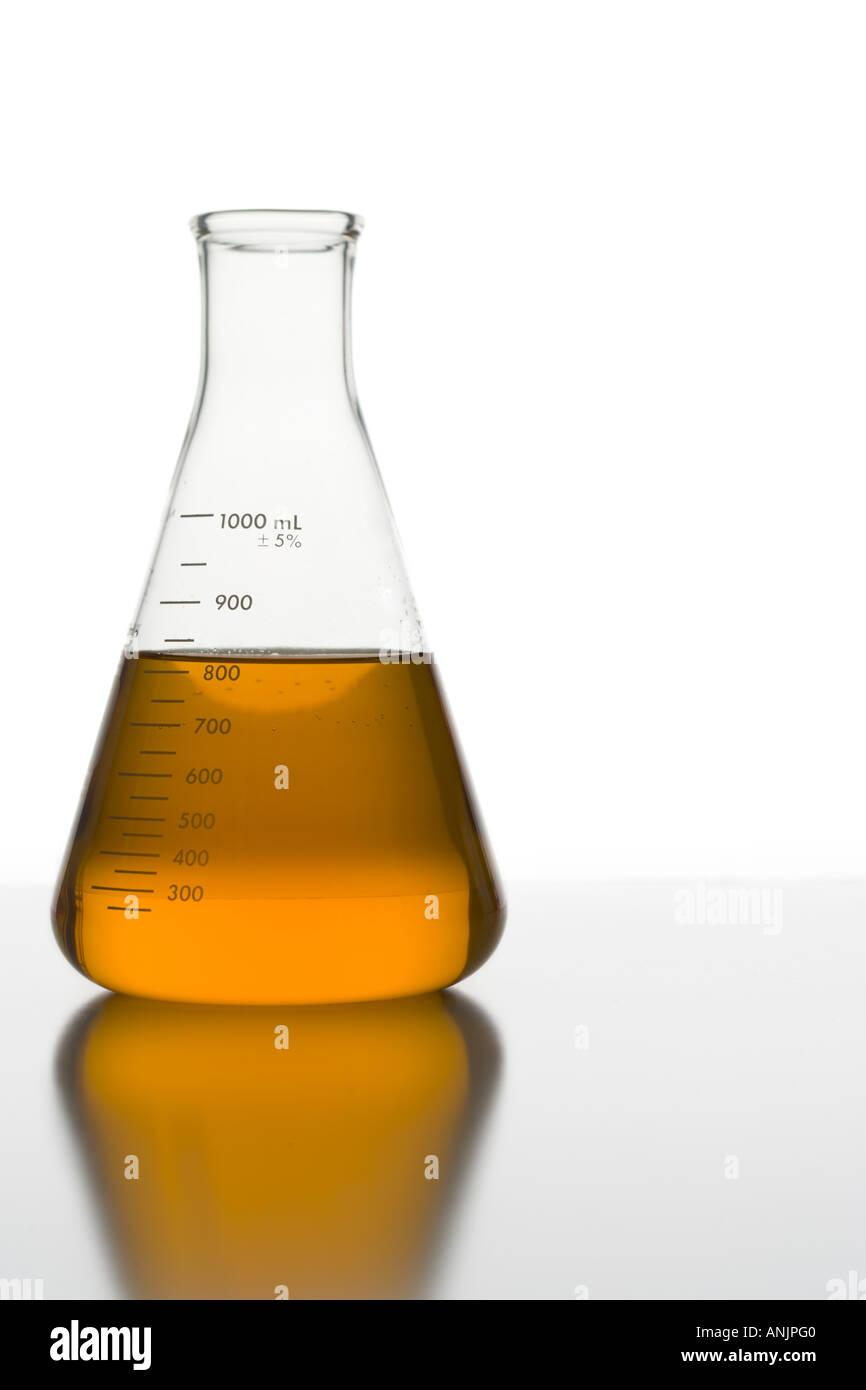Titrarion: (42, 143, 512, 1003)
